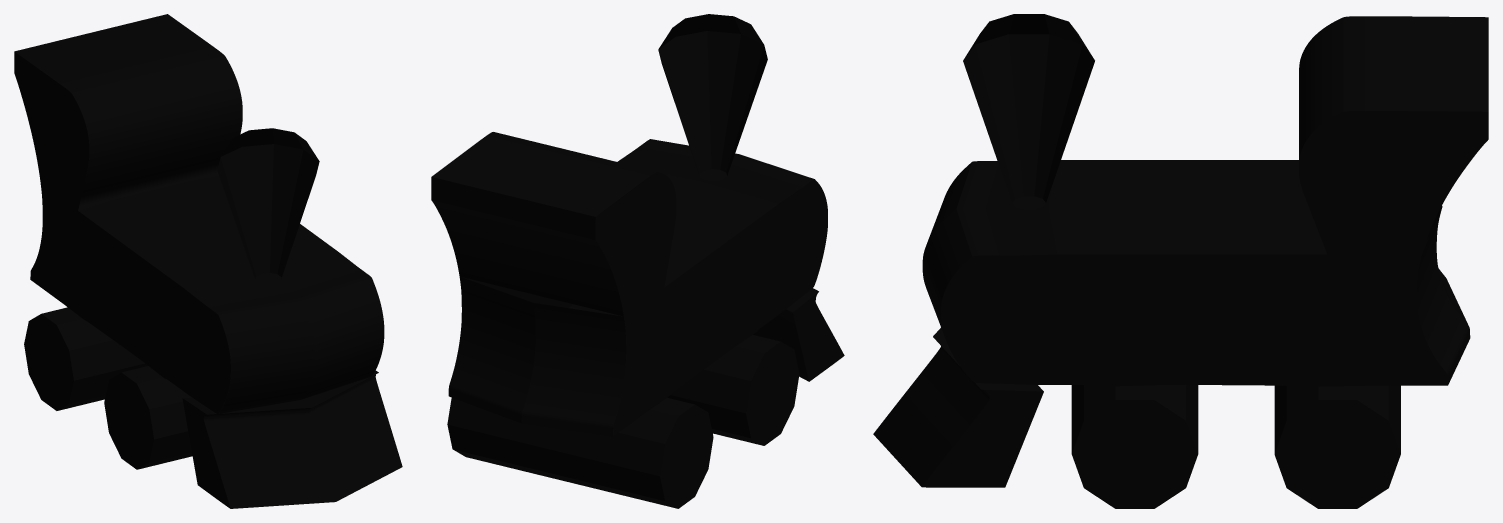
The model's file is tren .fbx.
3 renders of one model, left to right at view 1: azimuth 30°, elevation 25°; view 2: azimuth 150°, elevation 25°; view 3: azimuth 270°, elevation 25°, orthographic. The views are drawn at different scales.
Visible parts, largest first — view 1: Cylinder.003; view 2: Cylinder.003; view 3: Cylinder.003.
Part boxes in pixels (x1,y1,x2,y2): Cylinder.003: (14,14,402,508); Cylinder.003: (431,14,844,508); Cylinder.003: (873,14,1488,508).
Size of the model in its own units: 80.09 by 126 by 170.
